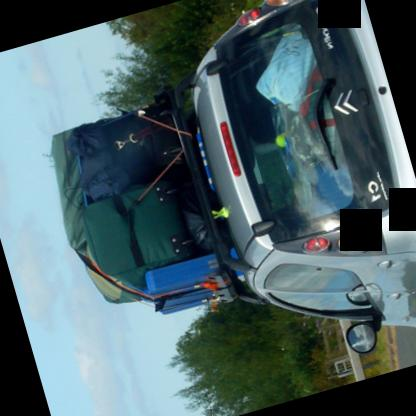suitcase: (82, 176, 198, 302), (144, 251, 221, 314), (139, 107, 187, 164)
